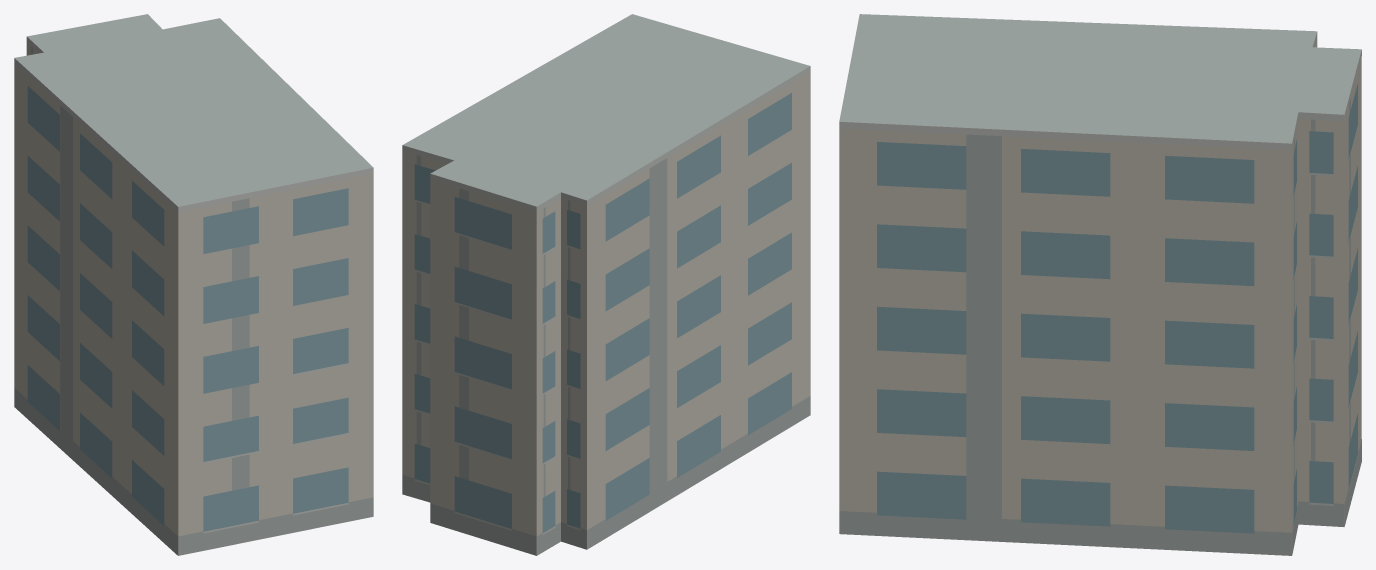
The model's file is survey-upis-32753214.glb.
3 renders of one model, left to right at view 1: azimuth 30°, elevation 25°; view 2: azimuth 150°, elevation 25°; view 3: azimuth 270°, elevation 25°, orthographic. The views are drawn at different scales.
Visible parts, largest first — view 1: survey-upis-32753214.tmp; view 2: survey-upis-32753214.tmp; view 3: survey-upis-32753214.tmp.
Boxes of the visible parts, x1,y1,x2,y2 form: survey-upis-32753214.tmp: [14, 14, 373, 555]; survey-upis-32753214.tmp: [402, 14, 810, 555]; survey-upis-32753214.tmp: [839, 14, 1361, 555].
Bounding box in the file's own units: 10.24 × 15.18 × 17.45.
